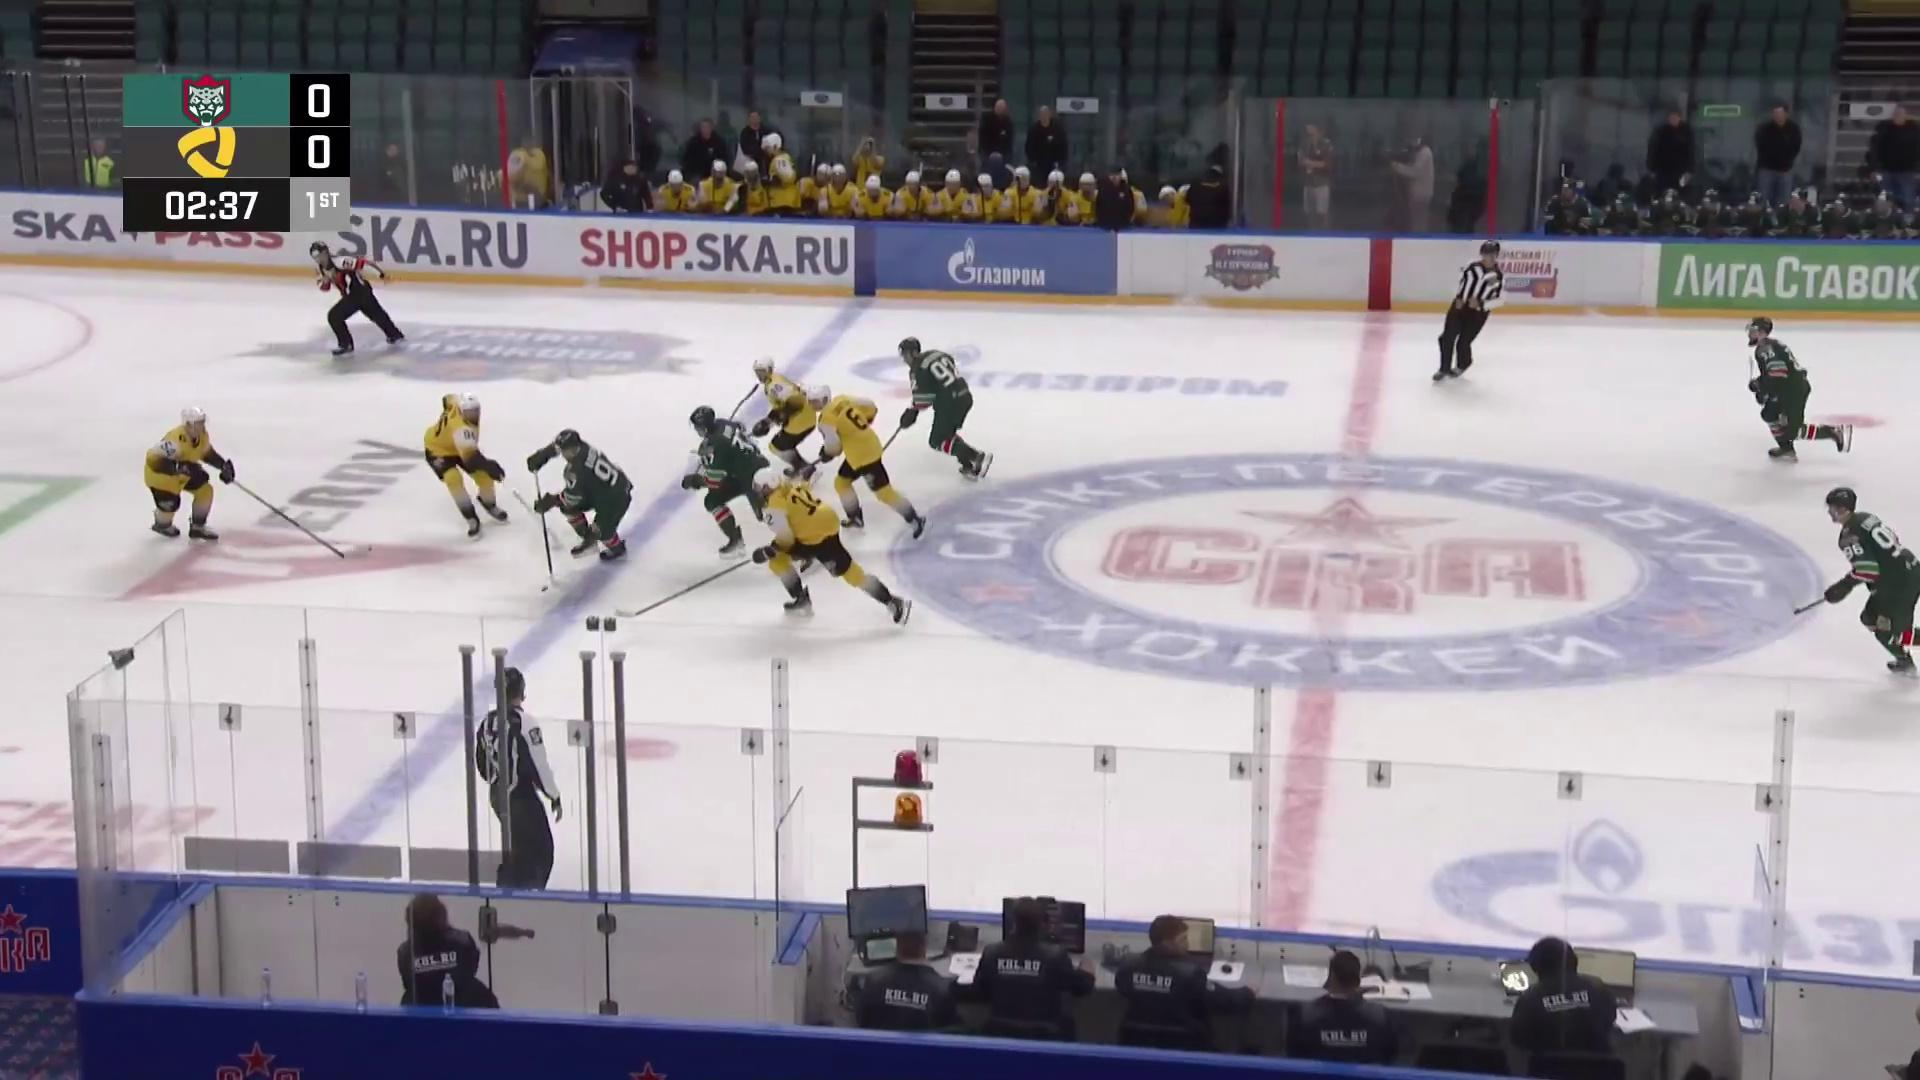ball: (541, 585, 549, 592)
